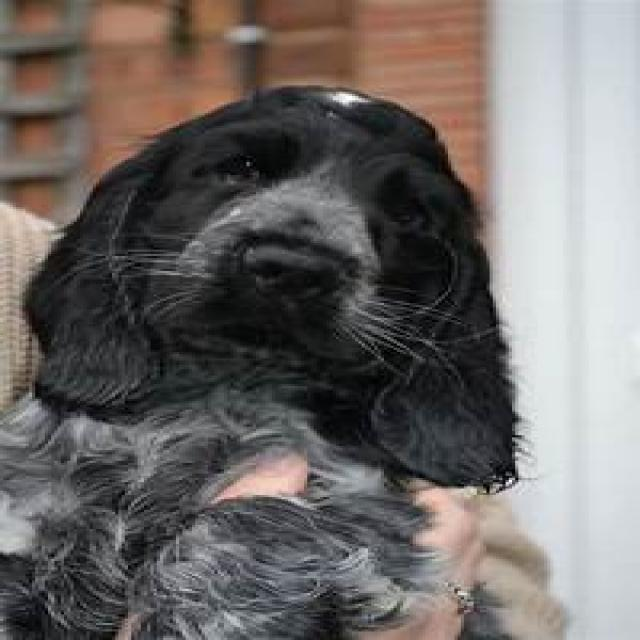animal: (0, 81, 566, 638)
